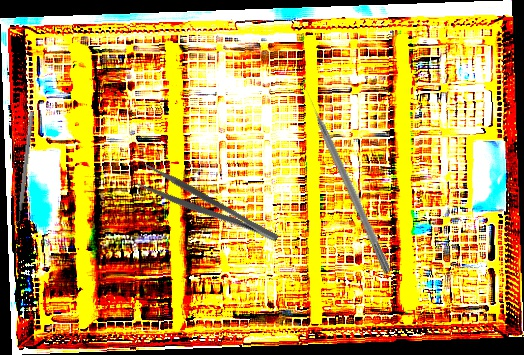Dressing Forceps: (134, 161, 281, 256)
Pusher: (301, 84, 394, 275)
Spatula Surgical: (13, 110, 34, 227)
